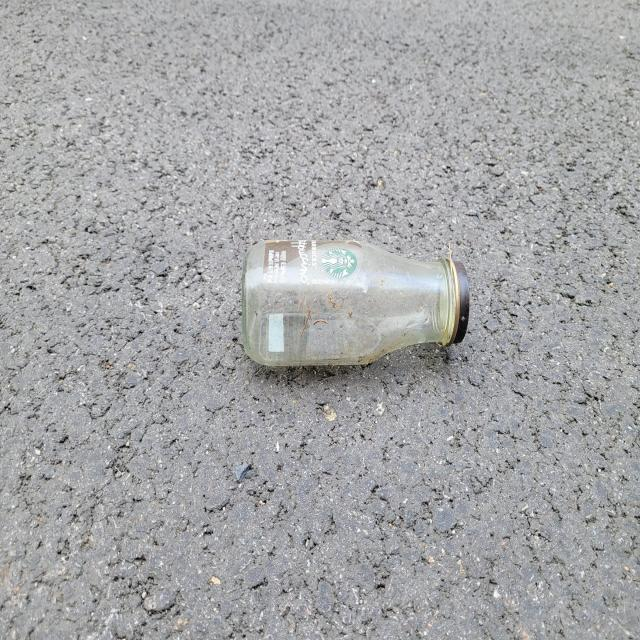glass: (242, 240, 470, 366)
